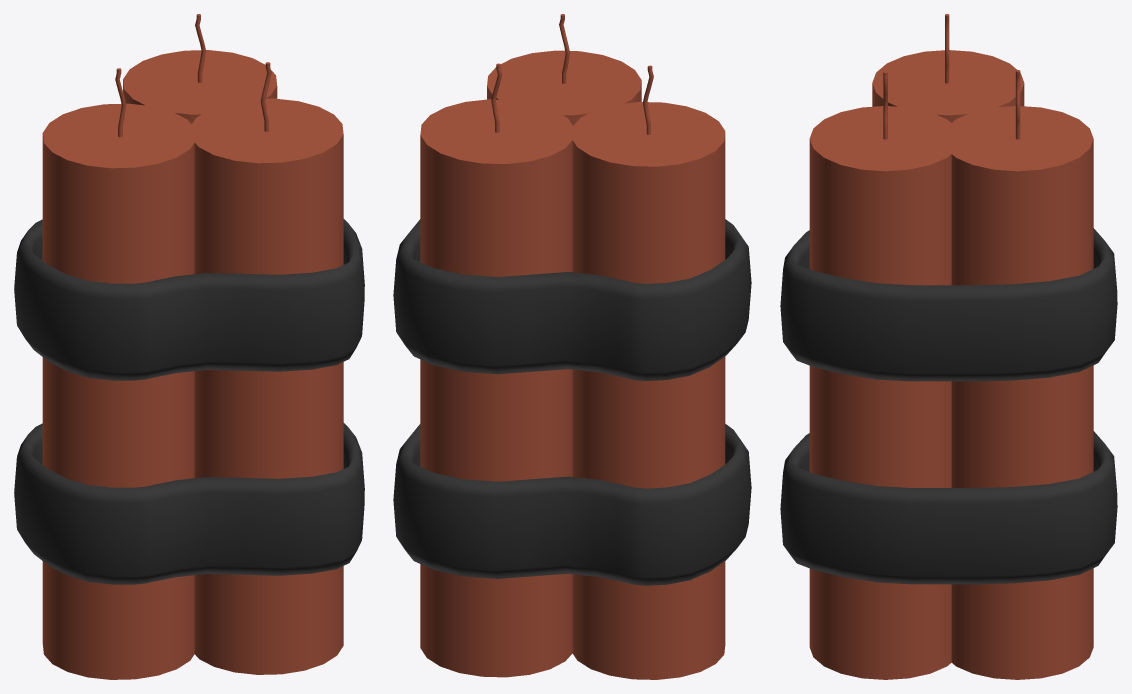
File: kmurphy_dynamite.fbx
3 renders of one model, left to right at view 1: azimuth 30°, elevation 25°; view 2: azimuth 150°, elevation 25°; view 3: azimuth 270°, elevation 25°, orthographic.
Visible parts, largest first — view 1: pCube3; view 2: pCube3; view 3: pCube3.
Boxes of the visible parts, <box> form: pCube3: <box>14,14,364,679</box>; pCube3: <box>393,14,751,679</box>; pCube3: <box>780,14,1117,679</box>.
Bounding box in the file's own units: 0.00455 × 0.00863 × 0.00458.
